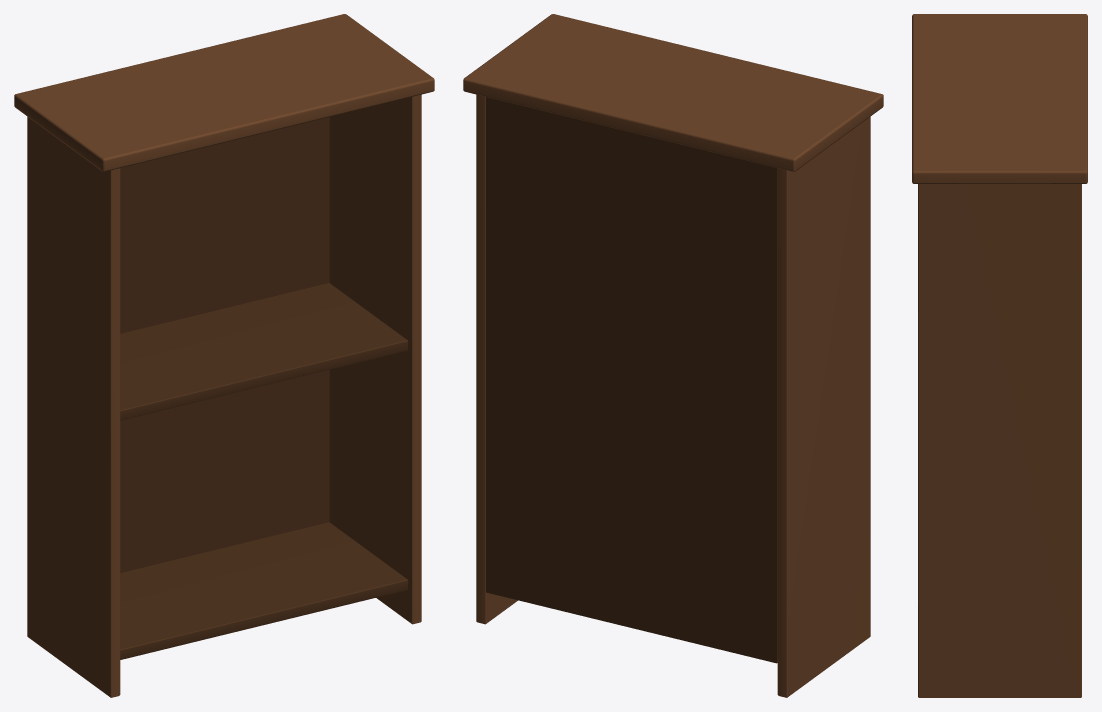
Rendered from bookshelf.glb.
The picture shows the model from 3 angles, left to right: view 1: azimuth 30°, elevation 25°; view 2: azimuth 150°, elevation 25°; view 3: azimuth 270°, elevation 25°; orthographic projection. The views are drawn at different scales.
Parts seen in each view (by area): view 1: BS_Back, BS_Side_L, BS_Side_R, BS_Top, BS_Shelf_Low, BS_Shelf_Mid; view 2: BS_Back, BS_Side_L, BS_Top, BS_Side_R; view 3: BS_Side_R, BS_Top.
Boxes of the visible parts, box(x1,y1,x2,y2) form: BS_Back: box(120, 117, 329, 572); BS_Side_L: box(27, 116, 120, 697); BS_Side_R: box(329, 94, 421, 624); BS_Top: box(14, 14, 434, 171); BS_Shelf_Low: box(120, 522, 408, 659); BS_Shelf_Mid: box(120, 283, 408, 420); BS_Back: box(486, 97, 777, 663); BS_Side_L: box(777, 116, 870, 697); BS_Top: box(463, 14, 883, 171); BS_Side_R: box(476, 94, 517, 624); BS_Side_R: box(918, 184, 1081, 697); BS_Top: box(912, 14, 1087, 183).
Bounding box in the file's own units: 0.64 × 1 × 0.3.
